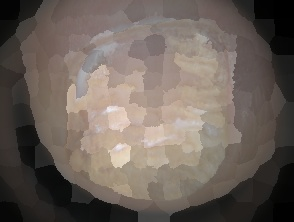Nail_psoriasis: (50, 14, 241, 202)
